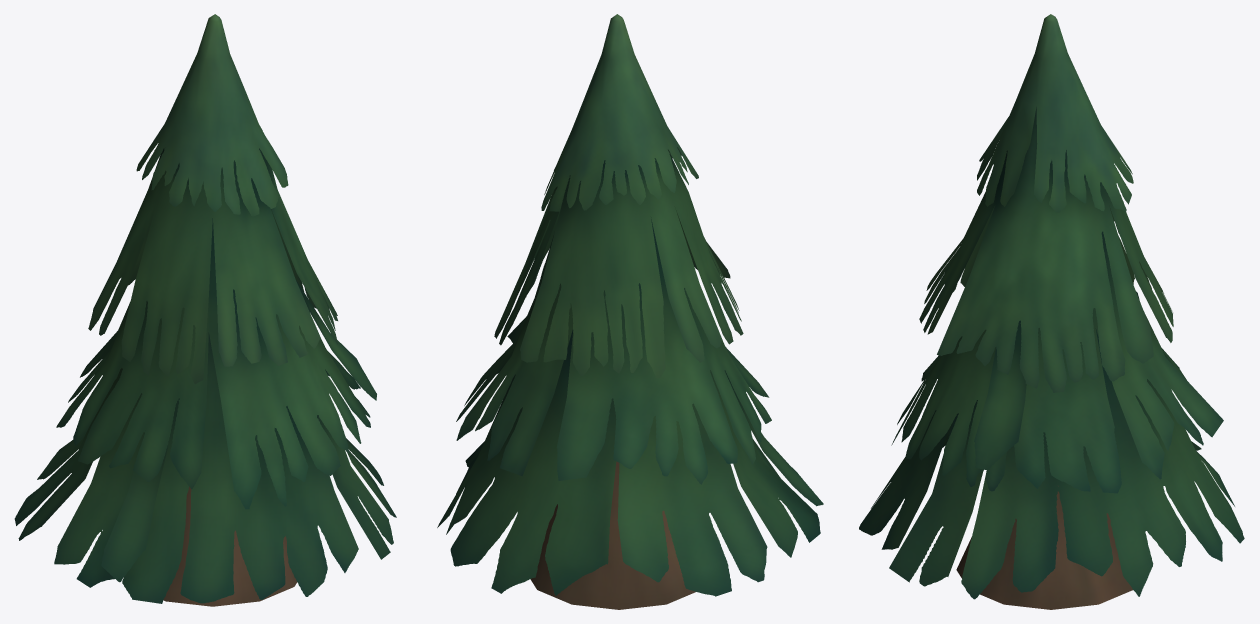
Rendered from Pine3.glb.
3 views of the same model, side by side, from view 1: azimuth 30°, elevation 25°; view 2: azimuth 150°, elevation 25°; view 3: azimuth 270°, elevation 25° (orthographic).
Visible parts, largest first — view 1: Cylinder.007; view 2: Cylinder.007; view 3: Cylinder.007.
Boxes of the visible parts, left/top/right/bottom form: Cylinder.007: left=14, top=14, right=396, bottom=606; Cylinder.007: left=437, top=14, right=823, bottom=609; Cylinder.007: left=859, top=14, right=1244, bottom=609.
Size of the model in its own units: 1.49 by 2.3 by 1.45.
1 material, 1 textured.
